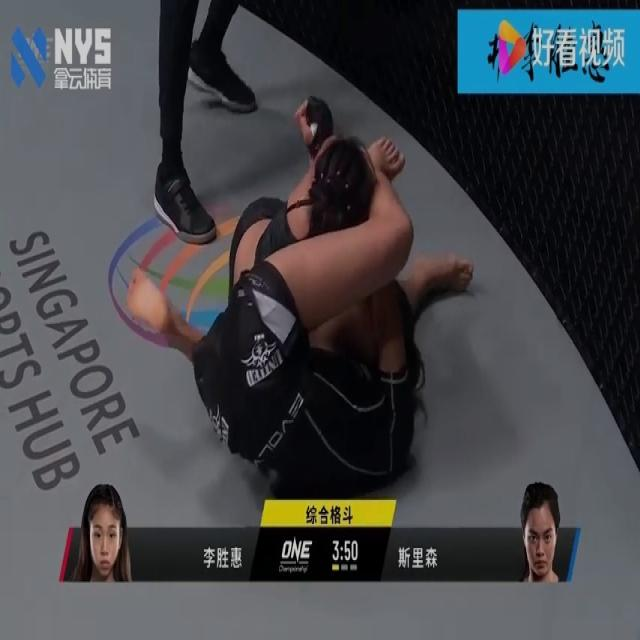fight: (123, 97, 472, 504)
